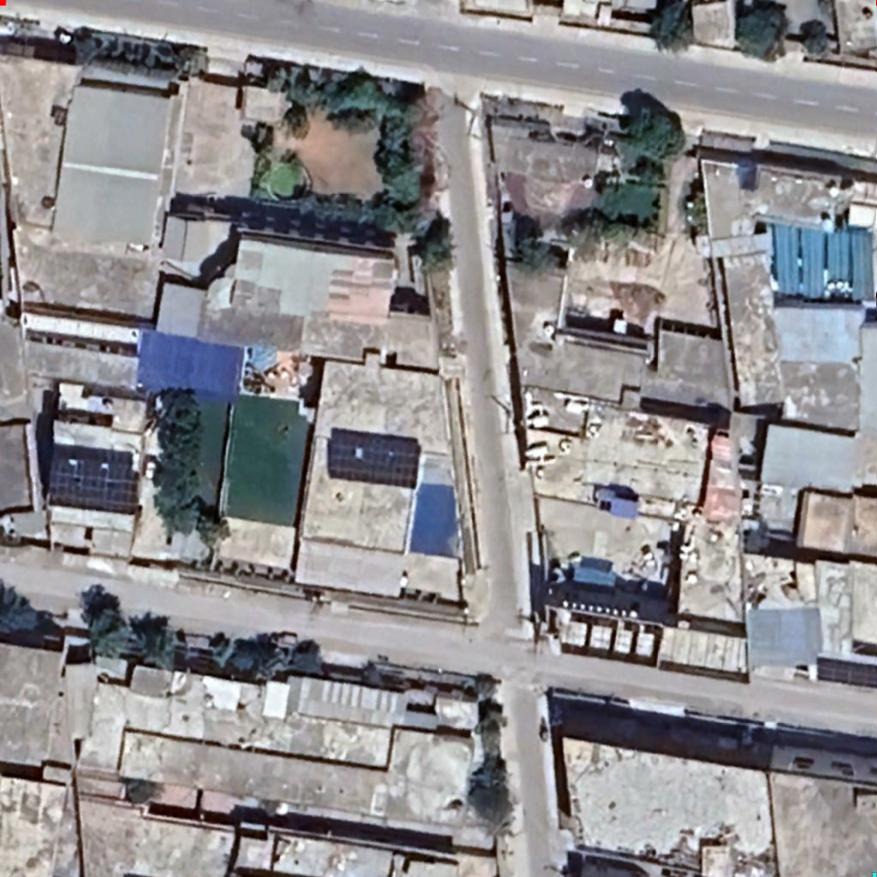Solarpanel: (41, 442, 145, 518), (322, 434, 420, 490)
